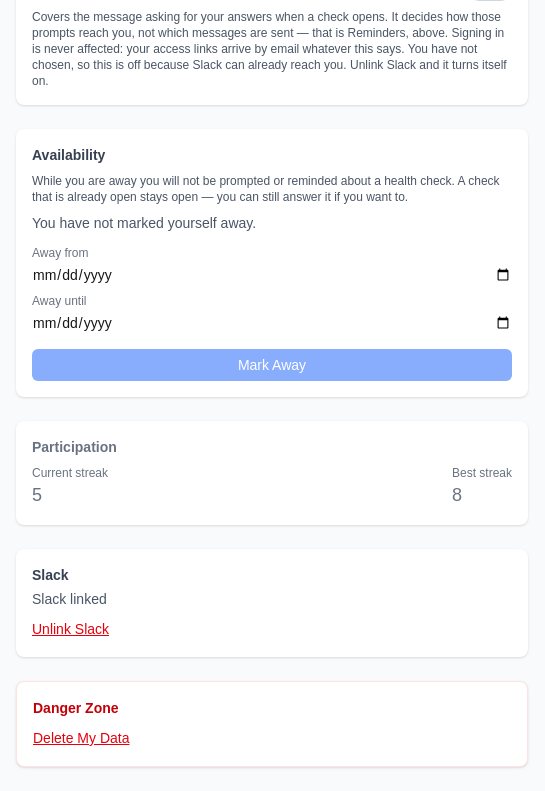
Test: Profile Page › Requirement 2.6: Slack unlink › shows confirmation before unlinking
(page scrolled)
Click the button "Unlink Slack".
click(70, 629)  # box [32,619,109,639]
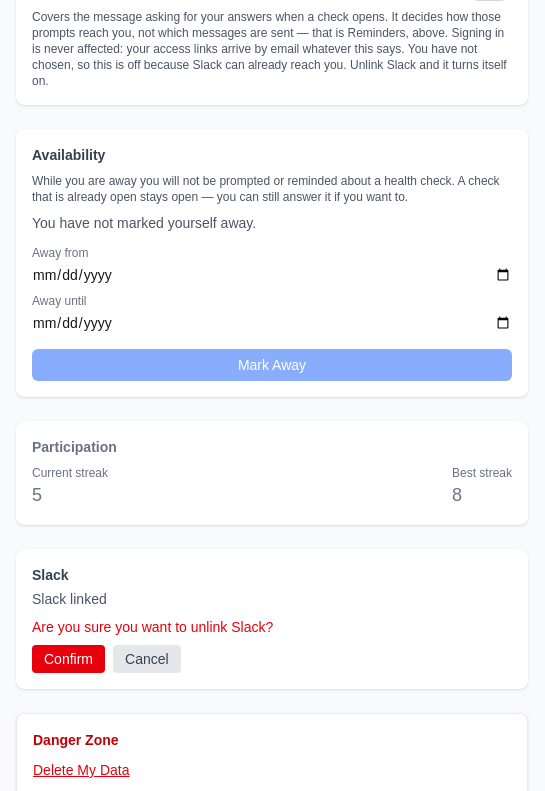
Result: the text "Are you sure you want to unlink Slack?" is shown at [32,619,273,635]
